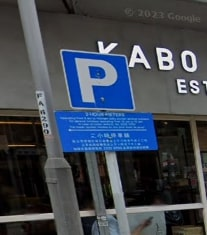Parking: (59, 44, 135, 114)
